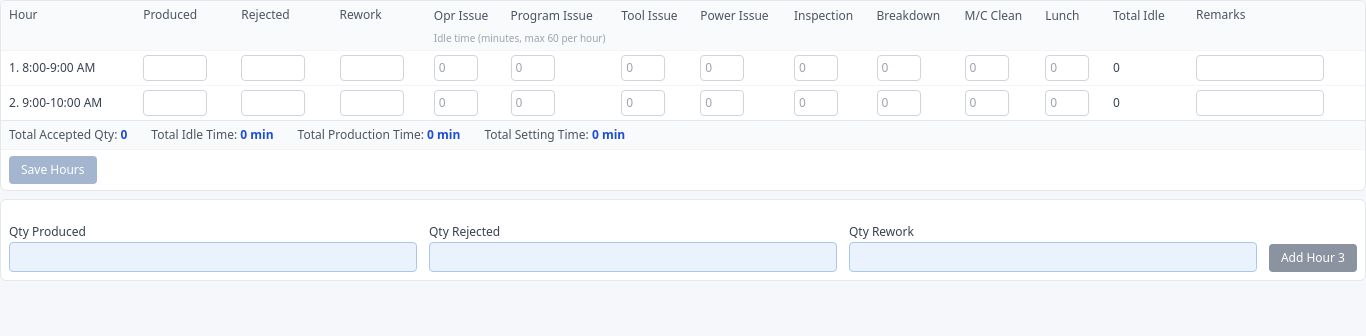
Test case: HourlySlotsEntry -- qty validation › Add Hour refuses a negative qty with a message and sends nothing
Type "-3" into the number field labelled "Qty Produced" at (213, 257), box [9, 242, 417, 272]
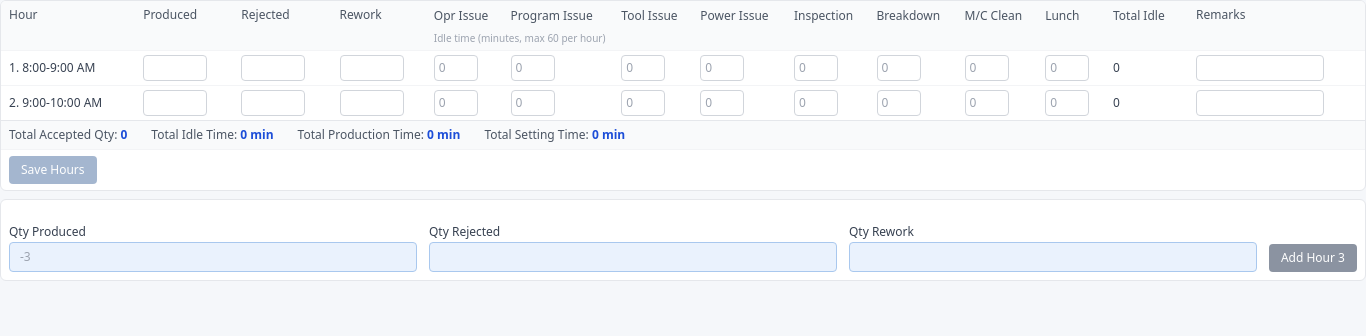
Click the button "Add Hour 3" at (1313, 258), box [1269, 244, 1357, 272]
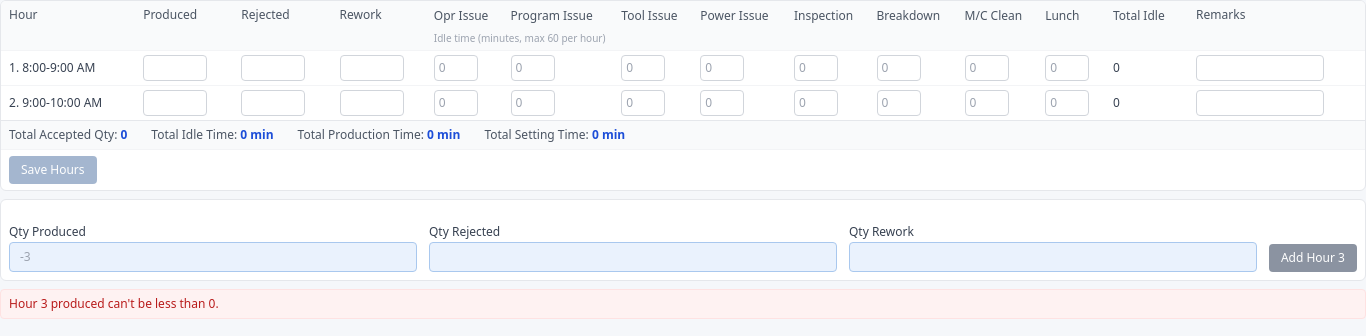
Expected: the message shows "produced can't be less than 0", [9, 295, 219, 312]
